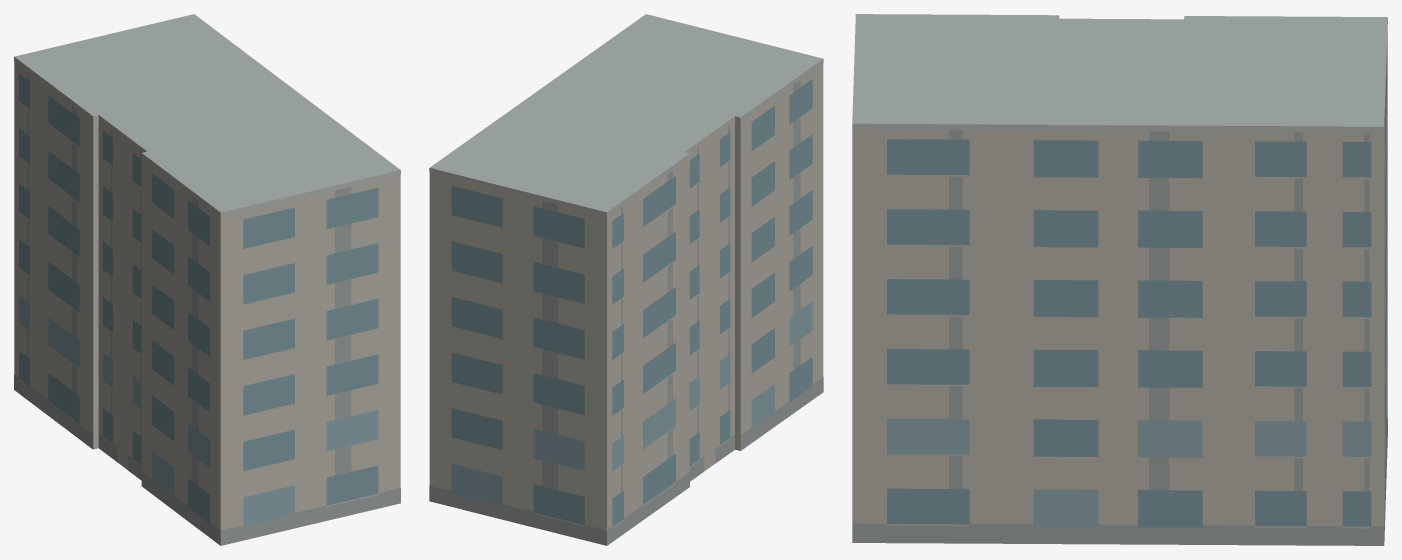
File: survey-upis-32565629.glb
3 views of the same model, side by side, from view 1: azimuth 30°, elevation 25°; view 2: azimuth 150°, elevation 25°; view 3: azimuth 270°, elevation 25° (orthographic). The views are drawn at different scales.
Parts seen in each view (by area): view 1: survey-upis-32565629.tmp; view 2: survey-upis-32565629.tmp; view 3: survey-upis-32565629.tmp.
Part boxes in pixels (box(x1,y1,x2,y2)): survey-upis-32565629.tmp: box(14, 14, 400, 545); survey-upis-32565629.tmp: box(429, 14, 823, 545); survey-upis-32565629.tmp: box(852, 14, 1387, 545).
Size of the model in its own units: 9.87 by 17.1 by 19.81.
